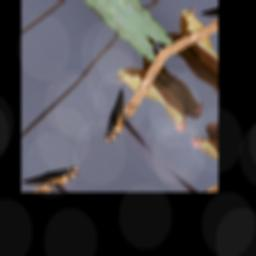Swallow: (85, 86, 147, 145)
